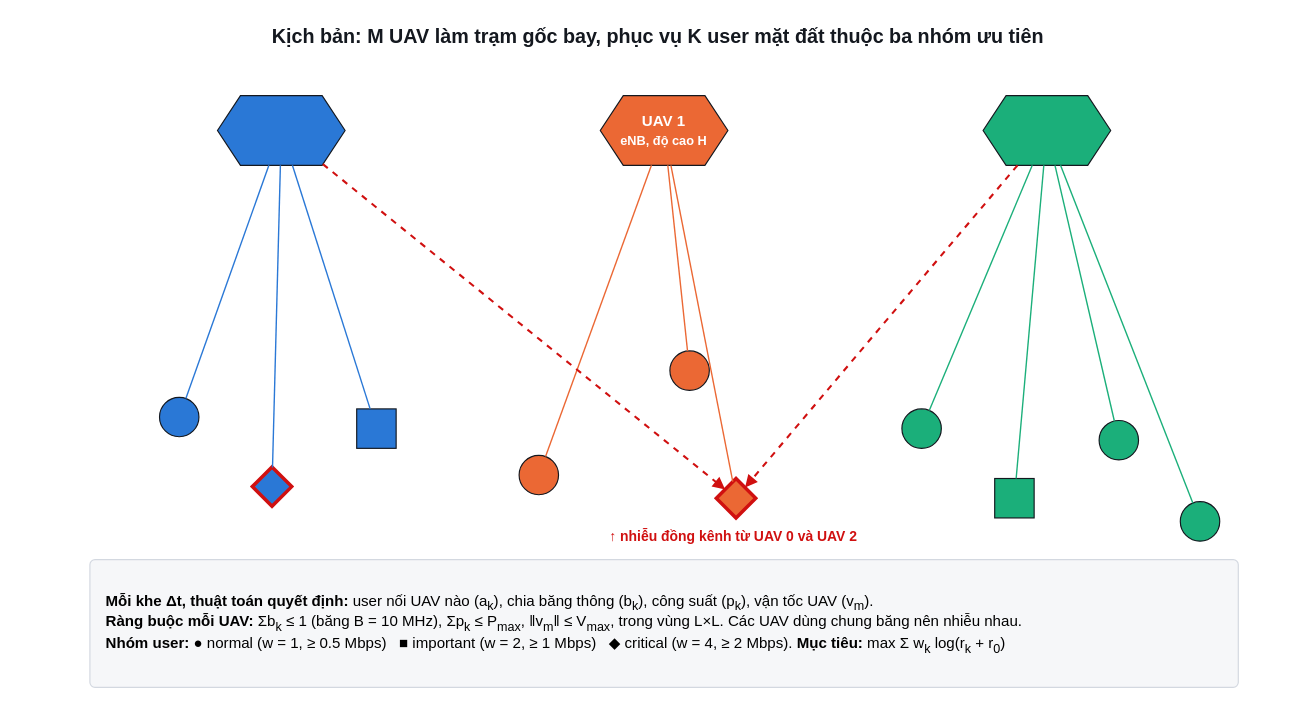
Some shapes in this 1315 by 708 pixel diagram are drawn without their labels. The centre of each missing label's shape, as x and y in pixels:
"UAV 0 eNB, độ cao H" belongs at (280,130).
"UAV 2 eNB, độ cao H" belongs at (1046,130).
